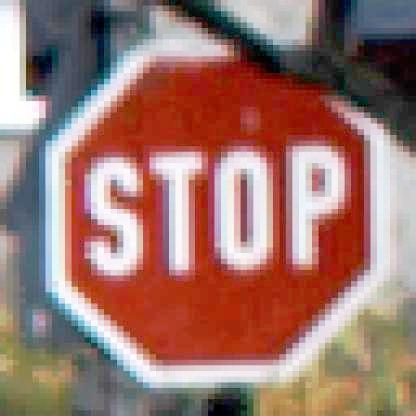Stop Sign: (41, 8, 401, 392)
